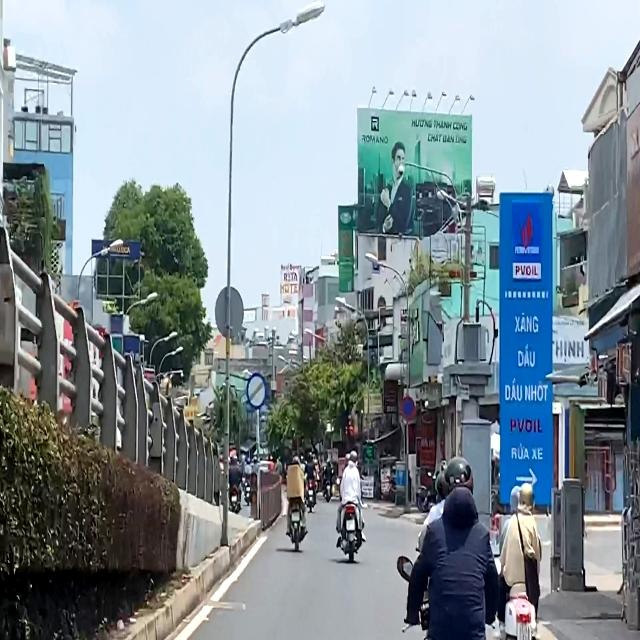bien_cam: (246, 373, 267, 410), (401, 396, 415, 422)
